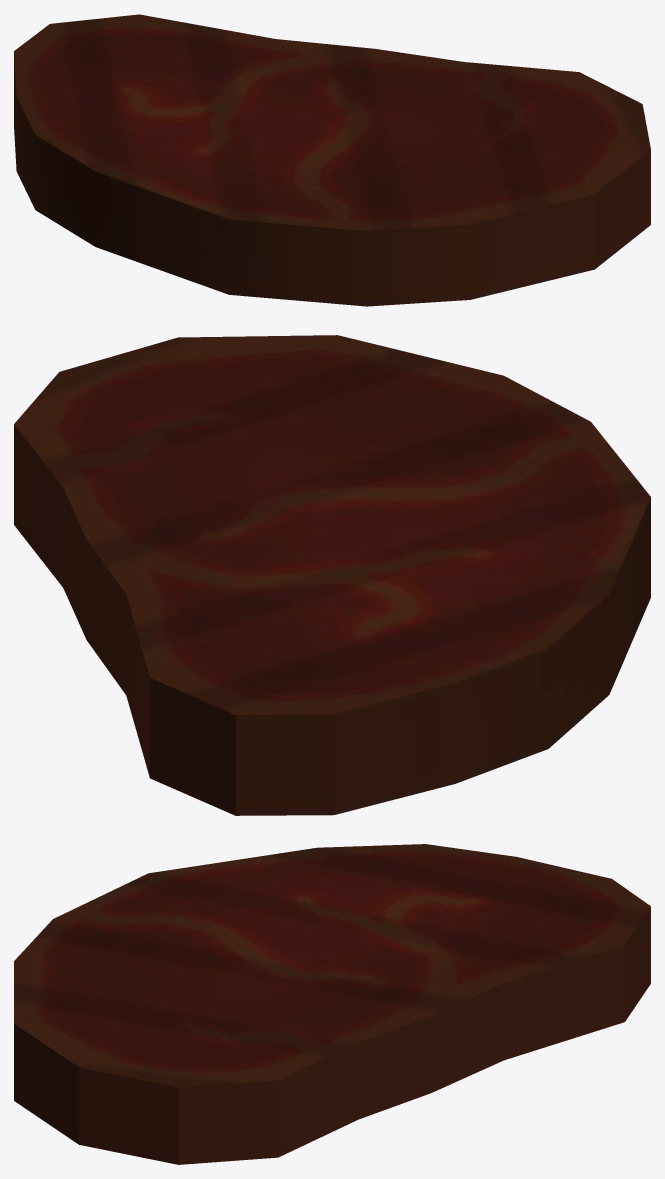
File: CookedSteak.glb
The picture shows the model from 3 angles, top to bottom: view 1: azimuth 30°, elevation 25°; view 2: azimuth 150°, elevation 25°; view 3: azimuth 270°, elevation 25°; orthographic projection. The views are drawn at different scales.
Parts seen in each view (by area): view 1: CookedSteak; view 2: CookedSteak; view 3: CookedSteak.
Part boxes in pixels (bbox=[...]): CookedSteak: bbox=[14, 14, 650, 306]; CookedSteak: bbox=[14, 335, 650, 815]; CookedSteak: bbox=[14, 844, 650, 1164].
Bounding box in the file's own units: 0.3881 × 0.0575 × 0.4289.
1 material, 1 textured.
